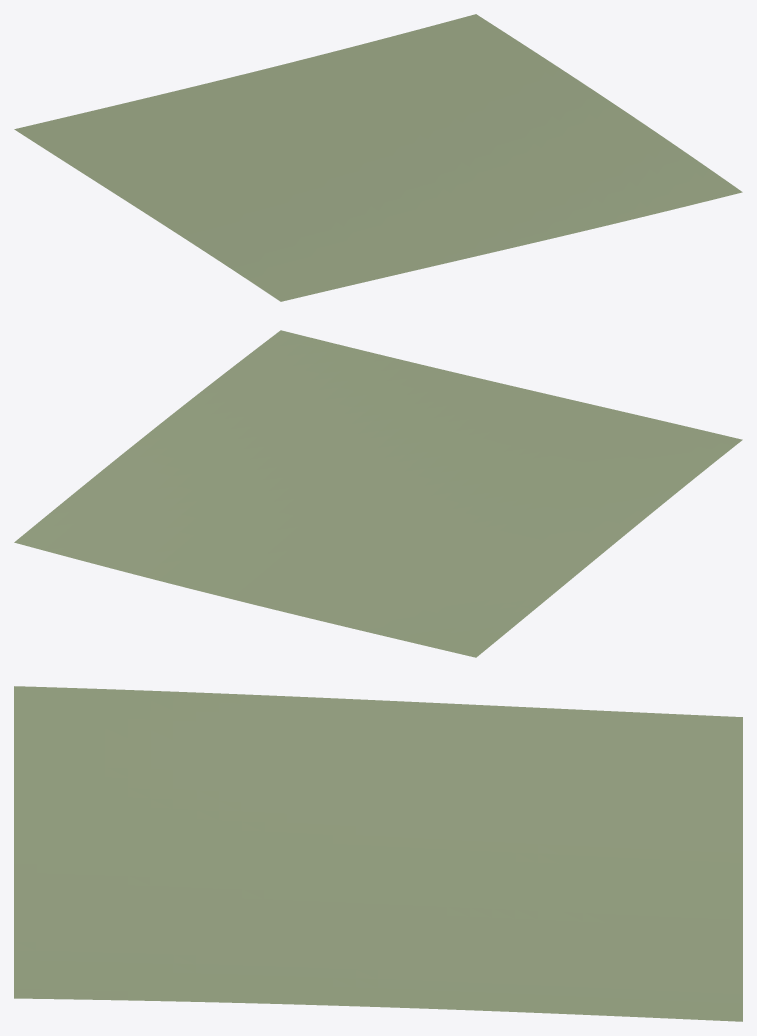
Rendered from expanse-5-11.glb.
3 views of the same model, one above another, from view 1: azimuth 30°, elevation 25°; view 2: azimuth 150°, elevation 25°; view 3: azimuth 270°, elevation 25° (orthographic). The views are drawn at different scales.
Parts seen in each view (by area): view 1: expanse-5-11; view 2: expanse-5-11; view 3: expanse-5-11.
Part boxes in pixels (x1=…): expanse-5-11: x1=14, y1=14, x2=742, y2=301; expanse-5-11: x1=14, y1=330, x2=742, y2=657; expanse-5-11: x1=14, y1=686, x2=742, y2=1021.
Bounding box in the file's own units: 256 × 12.63 × 256.
